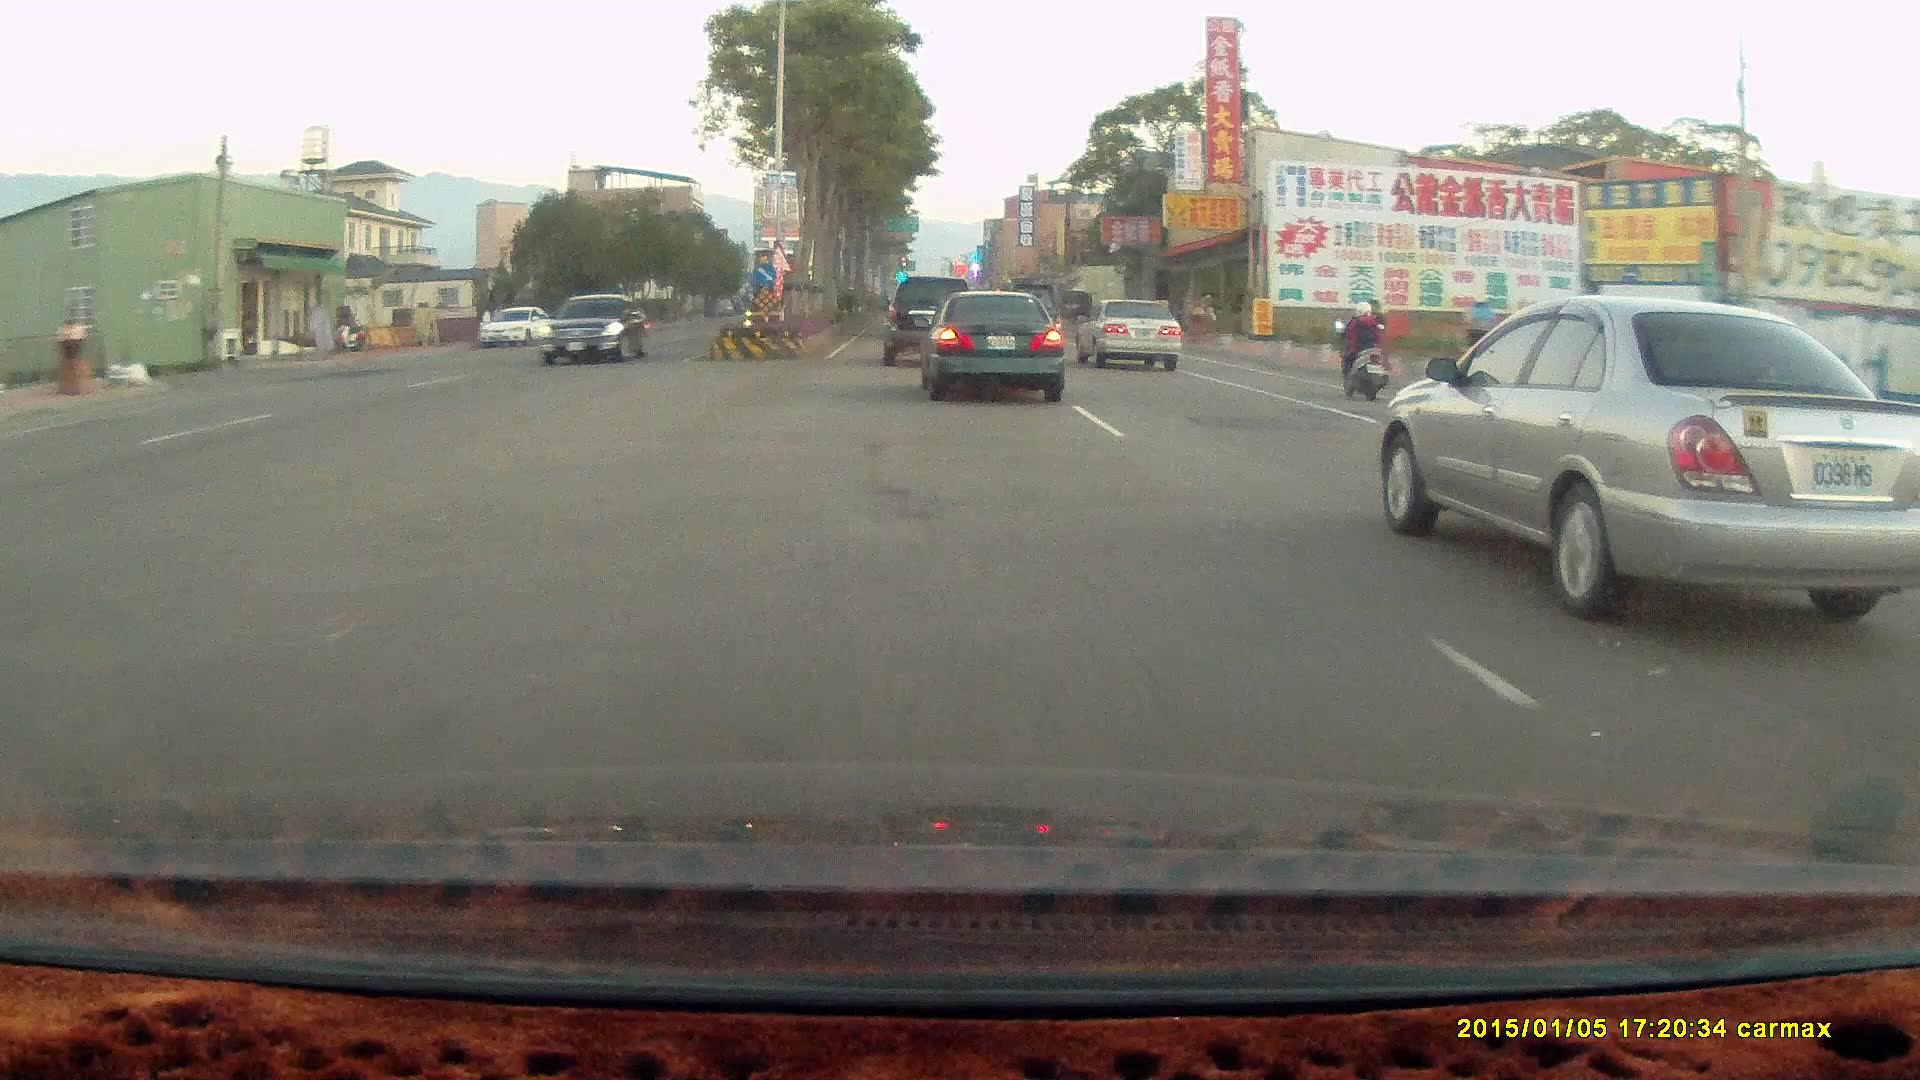rider: (1330, 291, 1399, 407), (1336, 296, 1388, 398)
vehicle: (1375, 290, 1920, 611), (913, 284, 1065, 398), (923, 286, 1068, 402), (882, 270, 980, 369), (880, 274, 973, 364), (1074, 293, 1181, 369), (543, 293, 651, 366), (1078, 296, 1185, 367), (540, 293, 647, 364), (477, 305, 558, 350), (477, 303, 557, 345)
